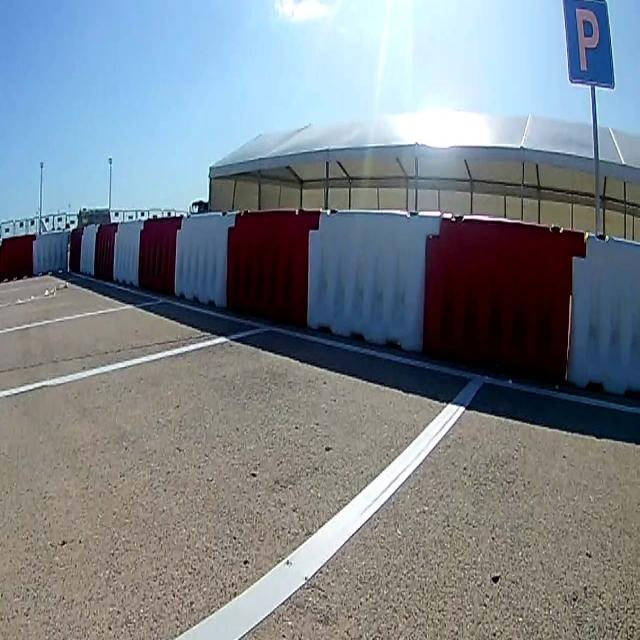park: (563, 1, 615, 88)
